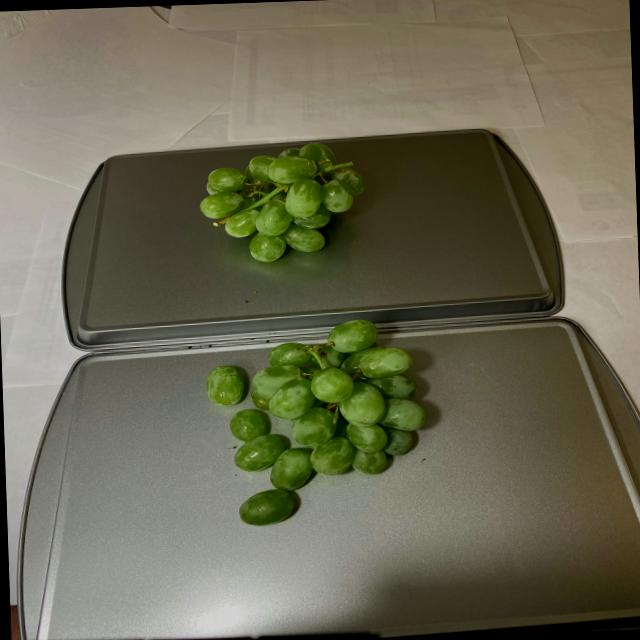grapes: (207, 317, 438, 526), (200, 140, 366, 269)
